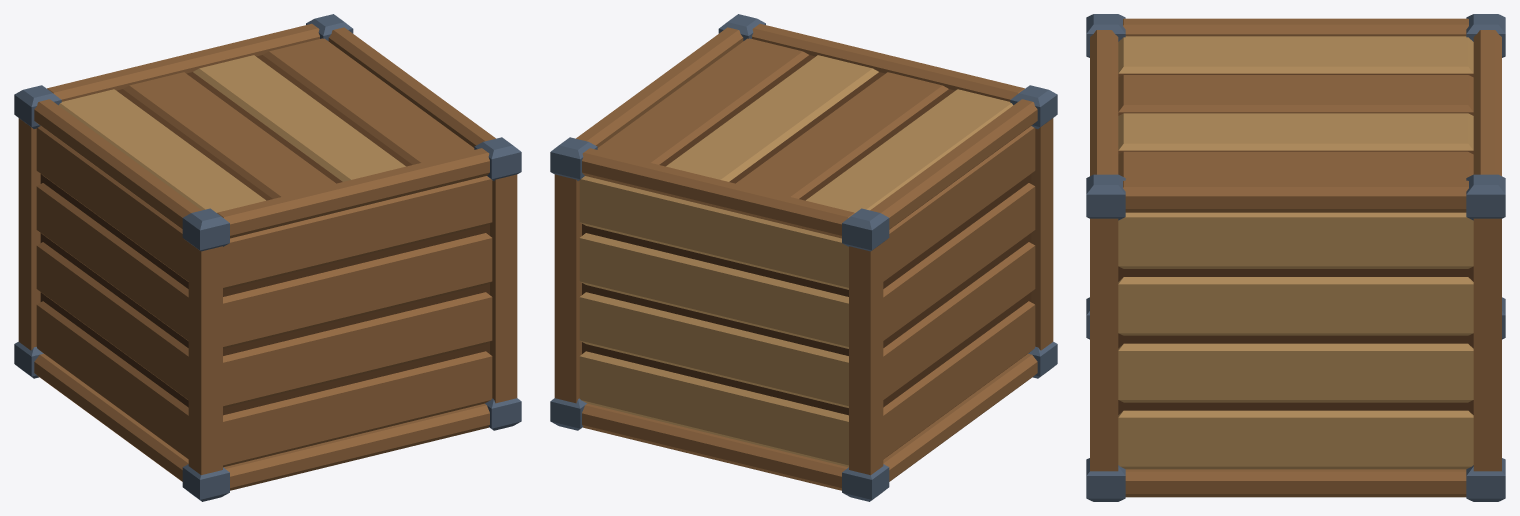
The model's file is Crate_16.glb.
3 views of the same model, side by side, from view 1: azimuth 30°, elevation 25°; view 2: azimuth 150°, elevation 25°; view 3: azimuth 270°, elevation 25° (orthographic). The views are drawn at different scales.
Visible parts, largest first — view 1: Crate_16; view 2: Crate_16; view 3: Crate_16.
Boxes of the visible parts, x1,y1,x2,y2 form: Crate_16: (14,14,521,501); Crate_16: (550,14,1057,501); Crate_16: (1086,14,1505,501).
Size of the model in its own units: 2.36 by 1.97 by 2.36.
